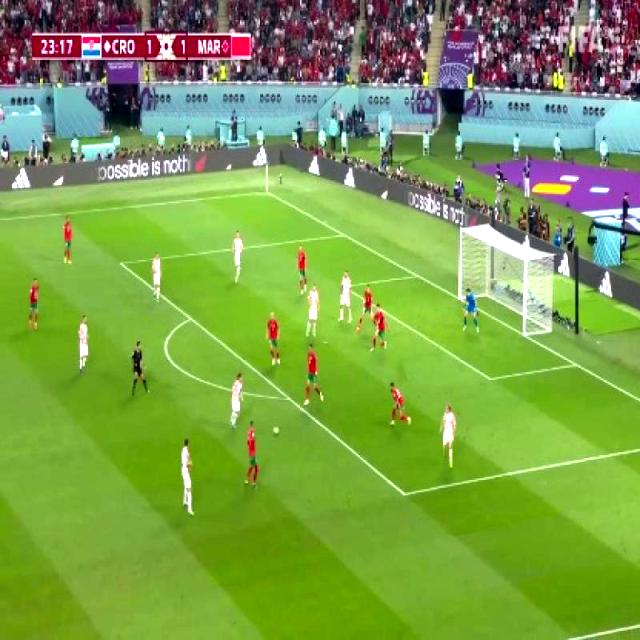bigarea_bottom_inner: (397, 483, 411, 505)
bigarea_top_inner: (115, 255, 126, 270)
bigarea_top_outter: (337, 230, 346, 240)
bottom_arc_area_intersection: (283, 391, 294, 406)
corner: (260, 190, 270, 197)
smallarea_bottom_inner: (483, 368, 497, 389)
smallarea_bottom_outter: (569, 356, 581, 370)
smallarea_top_outter: (411, 268, 422, 282)
top_arc_area_intersection: (184, 310, 194, 325)
